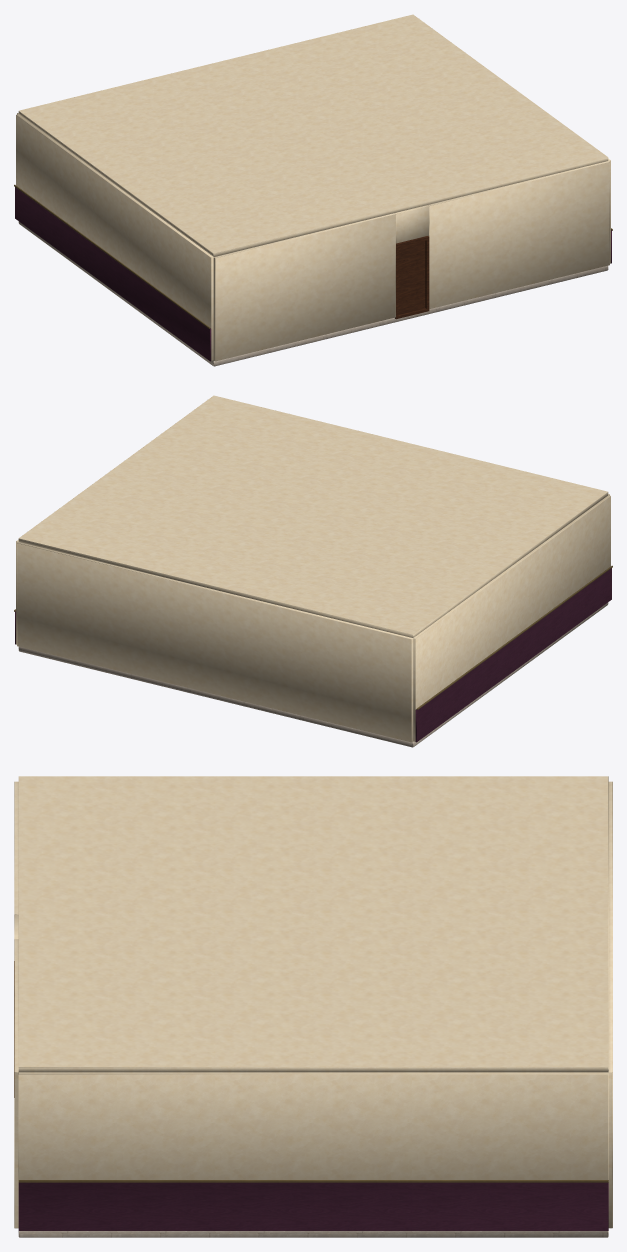
File: explore3d__shelter_inner.glb
The picture shows the model from 3 angles, top to bottom: view 1: azimuth 30°, elevation 25°; view 2: azimuth 150°, elevation 25°; view 3: azimuth 270°, elevation 25°; orthographic projection. The views are drawn at different scales.
Parts seen in each view (by area): view 1: Rebuilt_shelter_inner; view 2: Rebuilt_shelter_inner; view 3: Rebuilt_shelter_inner.
Part boxes in pixels (<box>): Rebuilt_shelter_inner: <box>14,14,612,366</box>; Rebuilt_shelter_inner: <box>14,395,612,747</box>; Rebuilt_shelter_inner: <box>14,776,612,1237</box>.
Bounding box in the file's own units: 14.32 × 3.84 × 12.19.
Materials: 14 (13 with a texture image).
